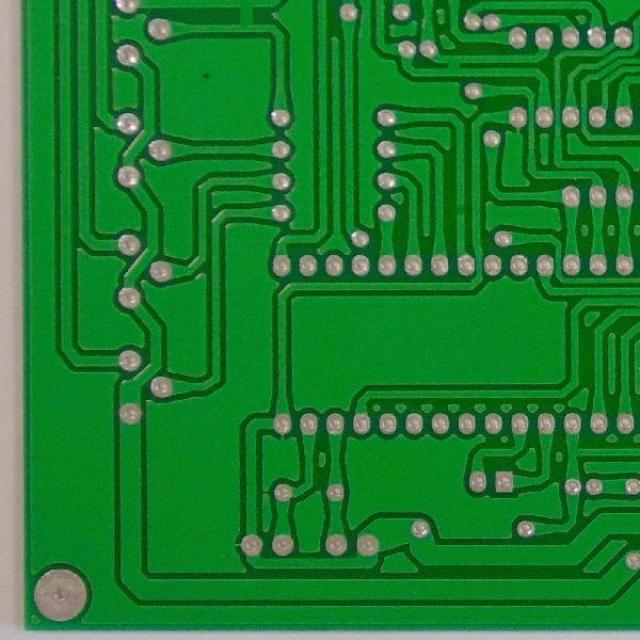short: (225, 1, 264, 34), (441, 54, 466, 78)
